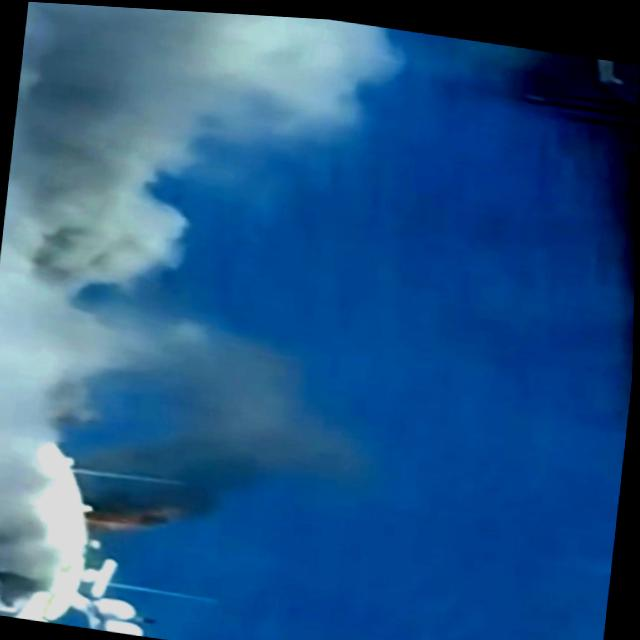smoke: (8, 1, 324, 222), (0, 111, 152, 437), (0, 388, 76, 613)
